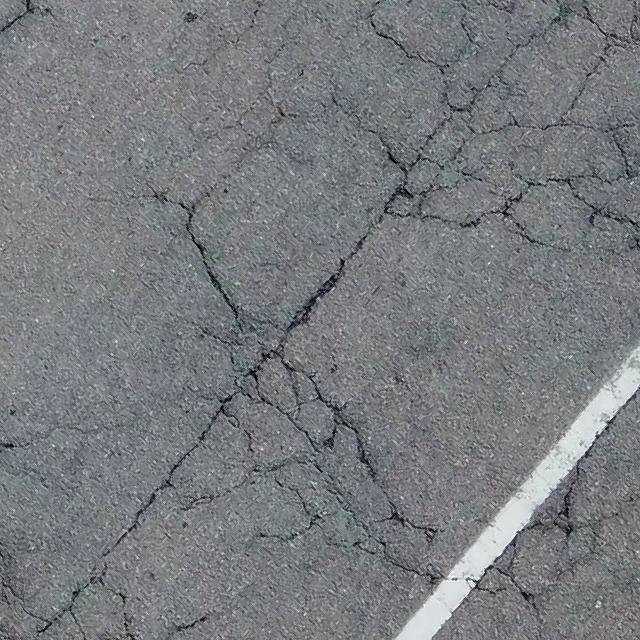PIEL DE COCODRILO: (31, 0, 639, 639)
